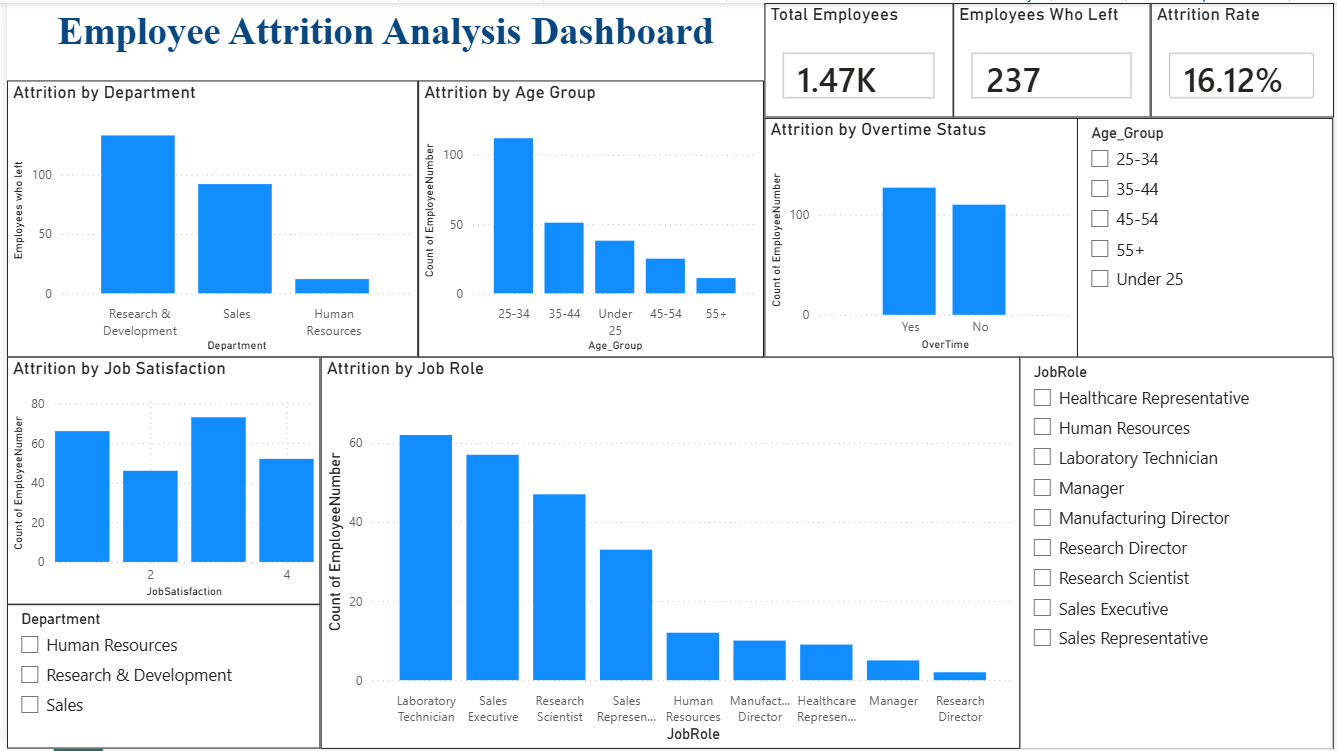

This screenshot's page, from the dashboard's own definition file:
{"tool":"powerbi","page":{"name":"Page 1","canvas":[1280,720],"ordinal":0},"visuals":[{"type":"cardVisual","title":"Total Employees","fields":{"Data":["CountNonNull(WA_Fn-UseC_-HR-Employee-Attrition.EmployeeNumber)"]},"box":[730.6,0,182.3,110.7],"z":0},{"type":"cardVisual","title":"Employees Who Left","fields":{"Data":["CountNonNull(WA_Fn-UseC_-HR-Employee-Attrition.EmployeeNumber)"]},"box":[912.9,0,190.4,110.7],"z":1000},{"type":"cardVisual","title":"Attrition Rate","fields":{"Data":["WA_Fn-UseC_-HR-Employee-Attrition.Attrition_Rate"]},"box":[1103.4,0,176.9,110.7],"z":2000},{"type":"clusteredColumnChart","title":"Attrition by Department","fields":{"Category":["WA_Fn-UseC_-HR-Employee-Attrition.Department"],"Y":["CountNonNull(WA_Fn-UseC_-HR-Employee-Attrition.EmployeeNumber)"]},"box":[0,74.3,397,267.4],"z":3000},{"type":"clusteredColumnChart","title":"Attrition by Overtime Status","fields":{"Category":["WA_Fn-UseC_-HR-Employee-Attrition.OverTime"],"Y":["CountNonNull(WA_Fn-UseC_-HR-Employee-Attrition.EmployeeNumber)"]},"box":[730.6,110.7,302.5,230.9],"z":4000},{"type":"clusteredColumnChart","title":"Attrition by Job Satisfaction","fields":{"Category":["WA_Fn-UseC_-HR-Employee-Attrition.JobSatisfaction"],"Y":["CountNonNull(WA_Fn-UseC_-HR-Employee-Attrition.EmployeeNumber)"]},"box":[0,341.7,302.5,239],"z":5000},{"type":"clusteredColumnChart","title":"Attrition by Job Role","fields":{"Category":["WA_Fn-UseC_-HR-Employee-Attrition.JobRole"],"Y":["CountNonNull(WA_Fn-UseC_-HR-Employee-Attrition.EmployeeNumber)"]},"box":[302.5,341.7,675.3,378.1],"z":6000},{"type":"slicer","fields":{"Values":["WA_Fn-UseC_-HR-Employee-Attrition.Age_Group"]},"box":[1033.1,110.7,247.1,230.9],"z":7000},{"type":"slicer","fields":{"Values":["WA_Fn-UseC_-HR-Employee-Attrition.Department"]},"box":[0,580.7,302.5,139.1],"z":8000},{"type":"slicer","fields":{"Values":["WA_Fn-UseC_-HR-Employee-Attrition.JobRole"]},"box":[977.2,341.4,302.8,378.8],"z":9000},{"type":"clusteredColumnChart","title":"Attrition by Age Group","fields":{"Category":["WA_Fn-UseC_-HR-Employee-Attrition.Age_Group"],"Y":["CountNonNull(WA_Fn-UseC_-HR-Employee-Attrition.EmployeeNumber)"]},"box":[397,74.3,333.6,267.4],"z":10000},{"type":"textbox","box":[0,0,730.6,74.3],"z":11000}]}

Visuals, with their boxes in screenshot pixels (x1, y1, x2, y2), scaled from the page's 1280x720 canvas onto the 1337x751 screenshot:
"Total Employees" cardVisual: bbox=(763, 0, 954, 115)
"Employees Who Left" cardVisual: bbox=(954, 0, 1152, 115)
"Attrition Rate" cardVisual: bbox=(1153, 0, 1336, 115)
"Attrition by Department" clusteredColumnChart: bbox=(0, 77, 415, 356)
"Attrition by Overtime Status" clusteredColumnChart: bbox=(763, 115, 1079, 356)
"Attrition by Job Satisfaction" clusteredColumnChart: bbox=(0, 356, 316, 606)
"Attrition by Job Role" clusteredColumnChart: bbox=(316, 356, 1021, 750)
slicer - WA_Fn-UseC_-HR-Employee-Attrition.Age_Group: bbox=(1079, 115, 1336, 356)
slicer - WA_Fn-UseC_-HR-Employee-Attrition.Department: bbox=(0, 606, 316, 750)
slicer - WA_Fn-UseC_-HR-Employee-Attrition.JobRole: bbox=(1021, 356, 1336, 750)
"Attrition by Age Group" clusteredColumnChart: bbox=(415, 77, 763, 356)
textbox: bbox=(0, 0, 763, 77)
